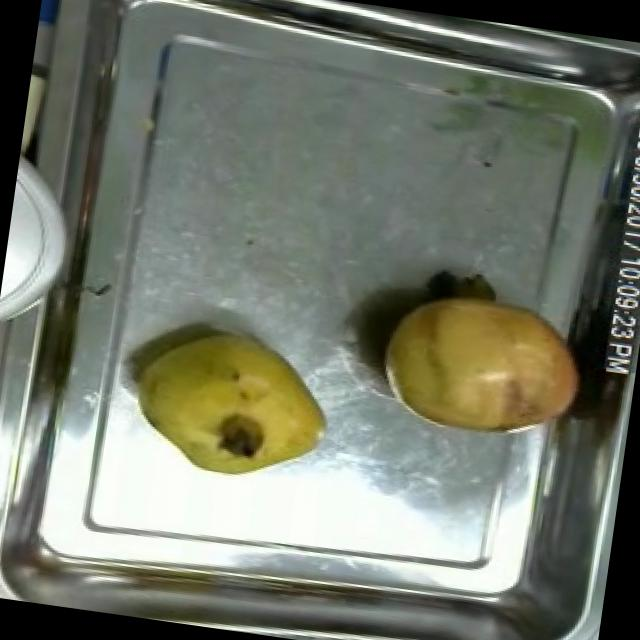fruit: (114, 310, 350, 495), (368, 269, 599, 453)
